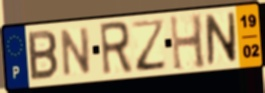B: (26, 29, 60, 83)
H: (168, 12, 208, 73)
N: (203, 10, 238, 67), (60, 25, 92, 80)
R: (97, 19, 135, 78)
Z: (130, 17, 169, 74)
